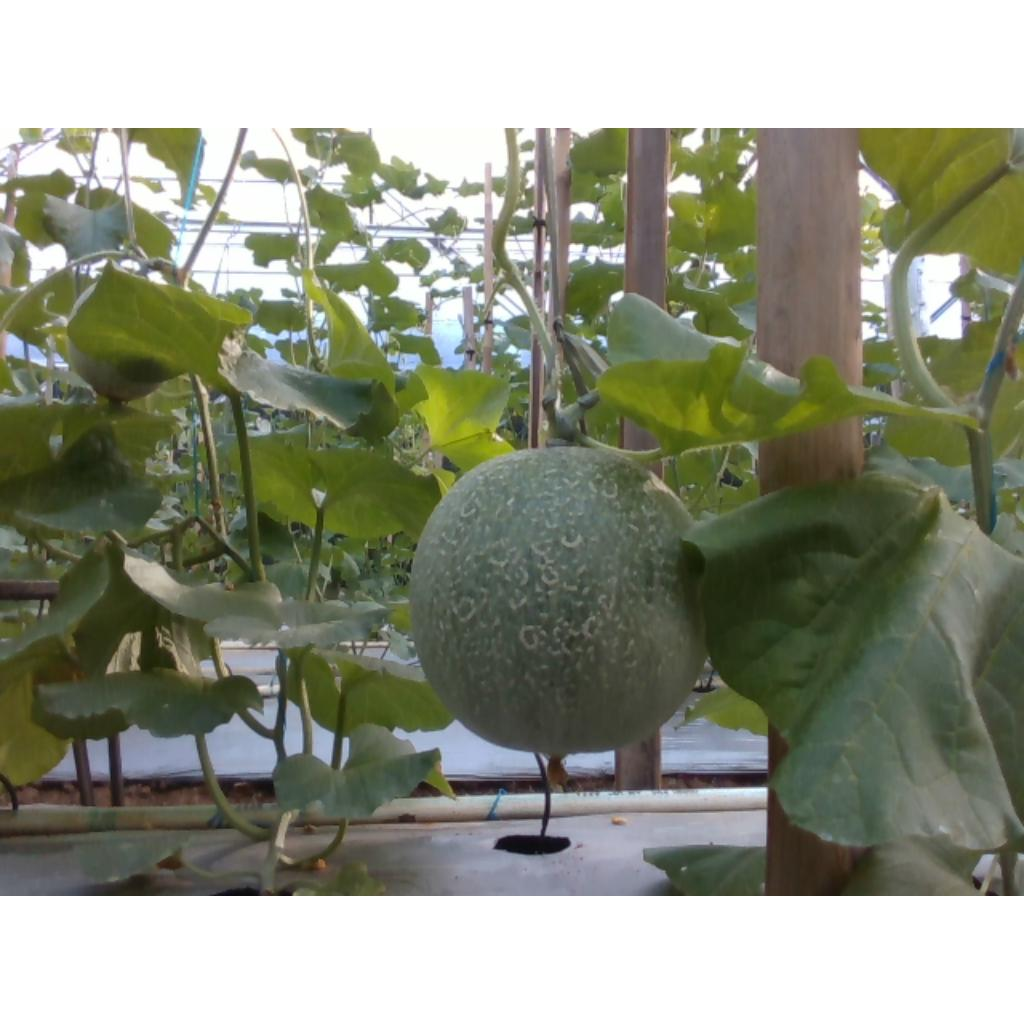melon: (411, 446, 707, 756)
